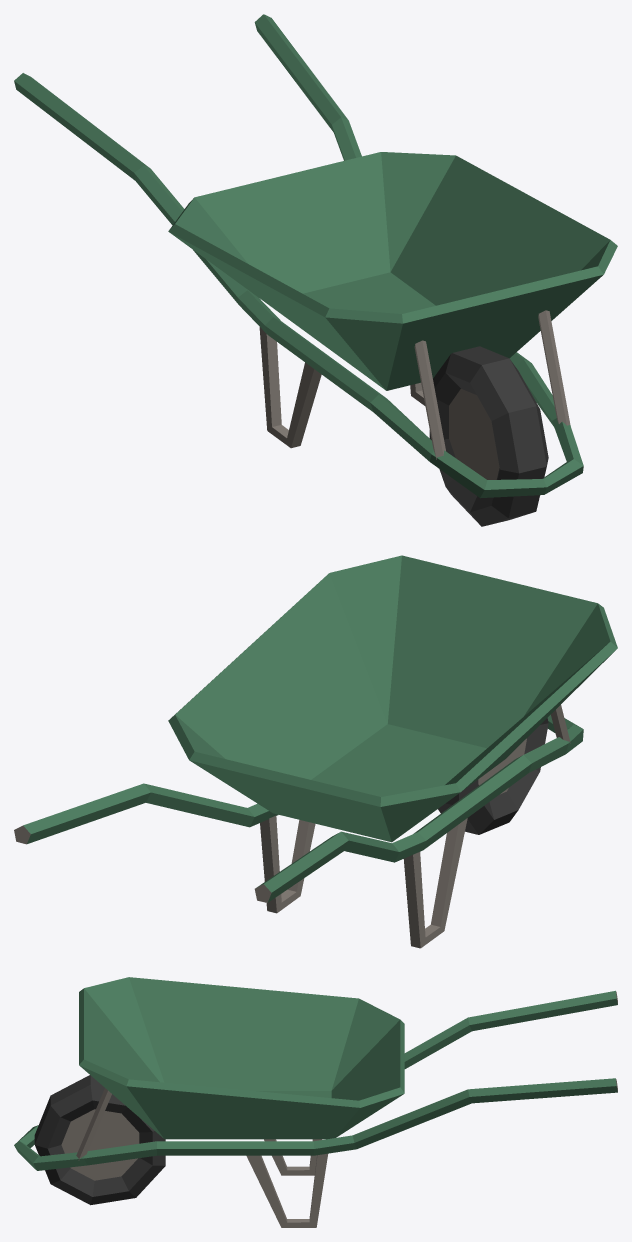
The model's file is wheels_01.fbx.
3 views of the same model, one above another, from view 1: azimuth 30°, elevation 25°; view 2: azimuth 150°, elevation 25°; view 3: azimuth 270°, elevation 25° (orthographic). The views are drawn at different scales.
Parts seen in each view (by area): view 1: wheels_01; view 2: wheels_01; view 3: wheels_01.
Part boxes in pixels (left/top/right/bottom): wheels_01: left=14, top=14, right=617, bottom=526; wheels_01: left=14, top=555, right=617, bottom=948; wheels_01: left=14, top=977, right=617, bottom=1227.
Bounding box in the file's own units: 125 × 96.21 × 299.
